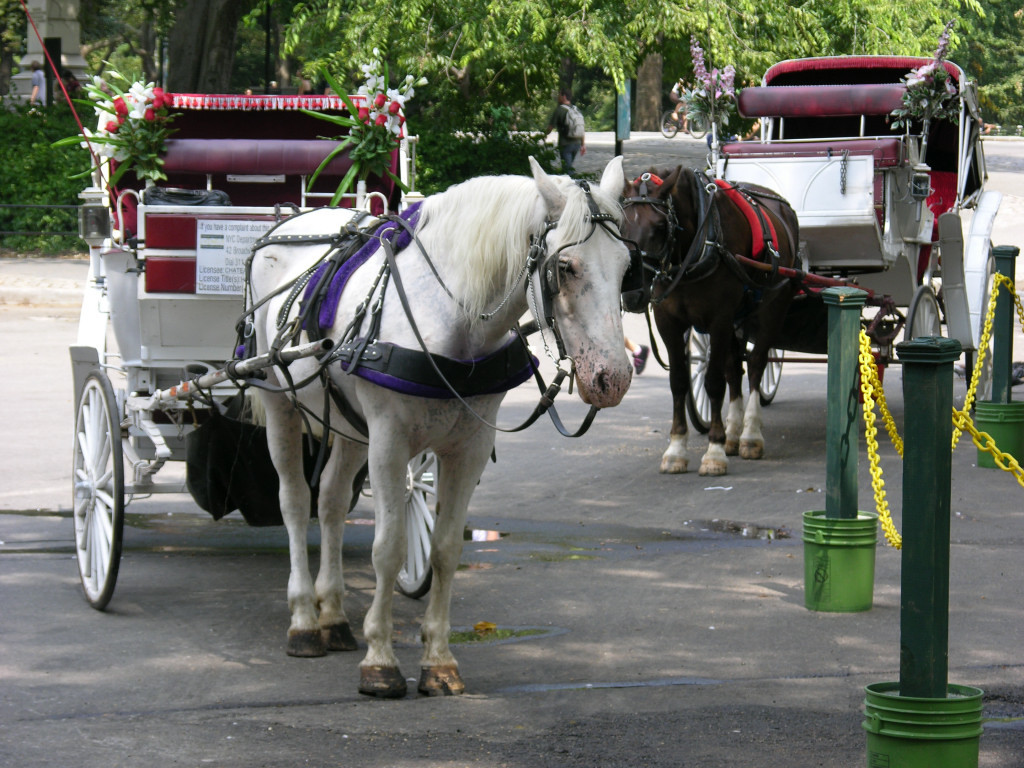horse: (245, 154, 633, 697)
